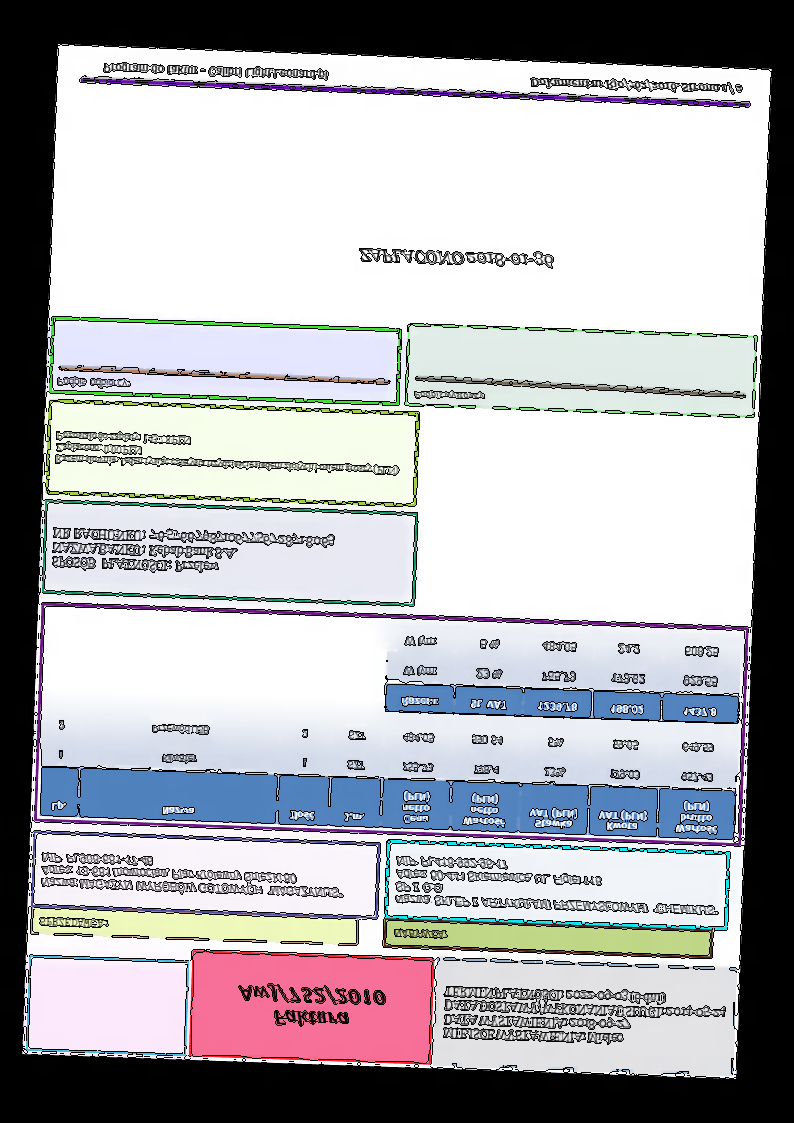Table: (39, 704, 739, 841), (383, 620, 743, 726)
TextBox: (391, 854, 722, 919), (441, 981, 729, 1053), (50, 522, 336, 584), (54, 428, 402, 478), (39, 849, 347, 901), (234, 980, 390, 1034), (101, 59, 331, 85), (355, 244, 559, 273), (529, 73, 745, 99), (55, 374, 132, 395), (36, 914, 110, 934), (411, 388, 486, 406), (390, 926, 448, 945)
